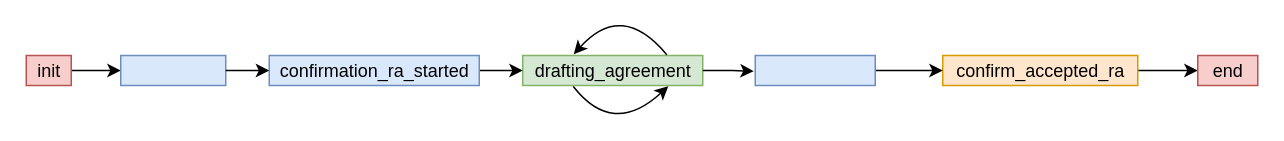
The diagram is 1284 pixels wide and 141 high, and some of its shapes have lost their labels. The shapes that lost their labels are listed below. From the top down, each one's centre as x and y in pixels, then its label:
point (172, 70): started_ra
point (814, 70): acepted_ra
